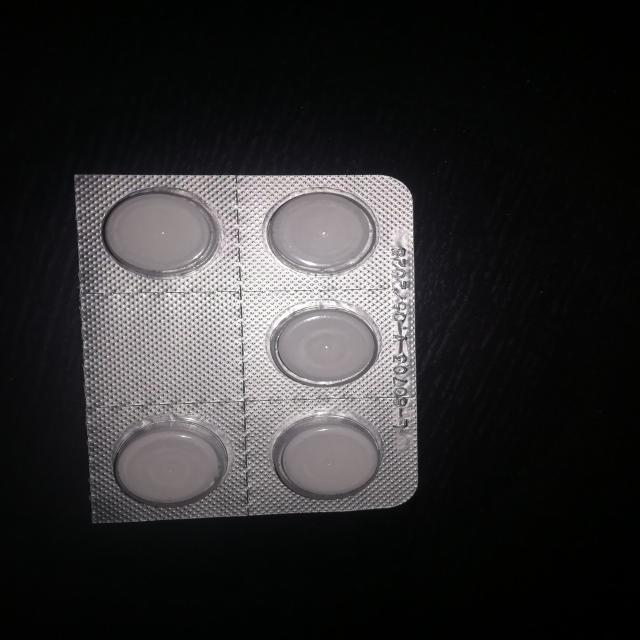Pill: (245, 295, 385, 395), (258, 181, 391, 284), (103, 418, 241, 514), (88, 184, 224, 276), (269, 416, 389, 505)
